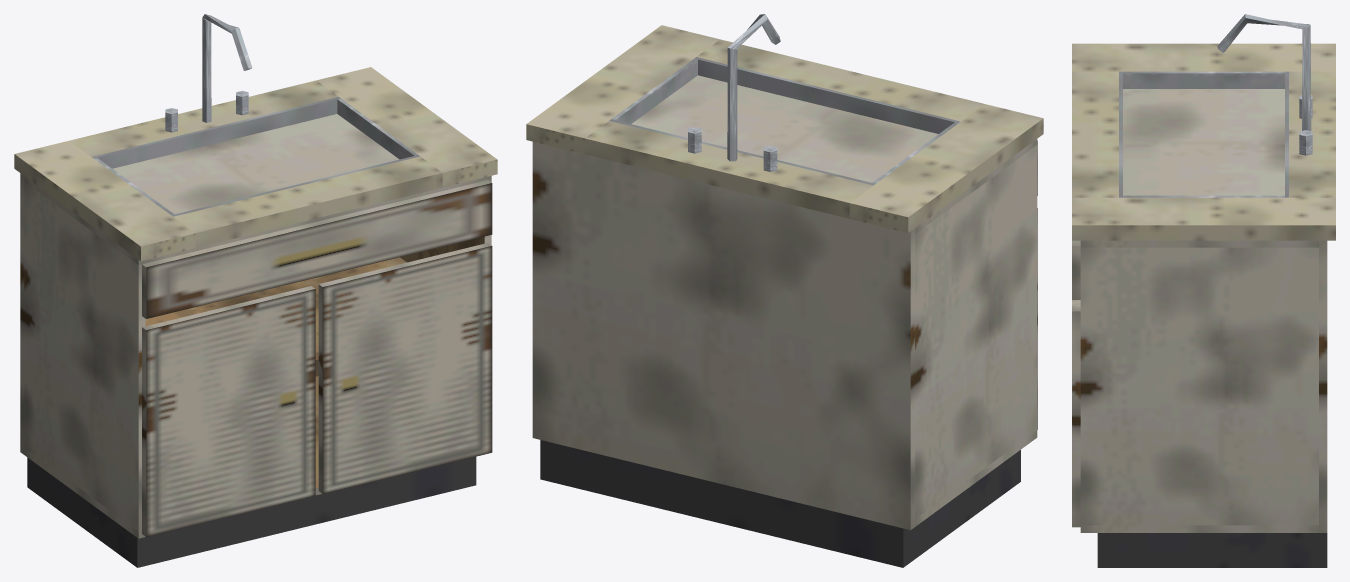
Rendered from sink_unit_white.obj.
The picture shows the model from 3 angles, left to right: view 1: azimuth 30°, elevation 25°; view 2: azimuth 150°, elevation 25°; view 3: azimuth 270°, elevation 25°; orthographic projection. The views are drawn at different scales.
Visible parts, largest first — view 1: sink_unit_white, sink_unit_white_door; view 2: sink_unit_white; view 3: sink_unit_white.
Boxes of the visible parts, x1=… form: sink_unit_white: x1=14, y1=14, x2=497, y2=567; sink_unit_white_door: x1=142, y1=286, x2=315, y2=536; sink_unit_white: x1=526, y1=14, x2=1043, y2=567; sink_unit_white: x1=1072, y1=14, x2=1335, y2=567.
Bounding box in the file's own units: 1.01 × 1.21 × 0.62.
1 material, 1 textured.
